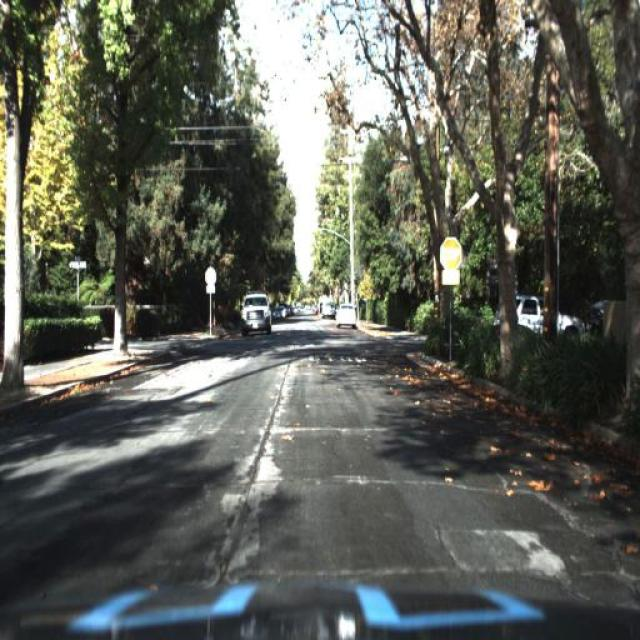car: (510, 283, 590, 347), (492, 292, 586, 338), (238, 287, 272, 338), (332, 300, 360, 334), (334, 301, 355, 329)
